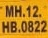character: (5, 5, 14, 18), (14, 4, 22, 18), (1, 20, 9, 33), (31, 5, 39, 17), (40, 20, 47, 33), (10, 21, 17, 33), (27, 20, 34, 32), (33, 20, 40, 32), (25, 5, 31, 18), (21, 20, 27, 32)
